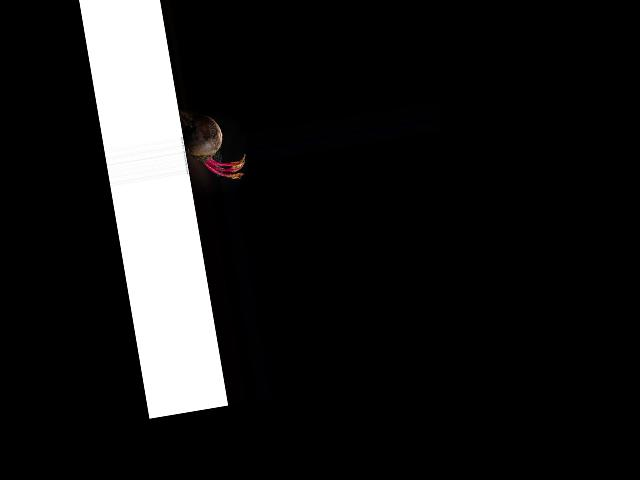beet: (178, 99, 248, 186)
